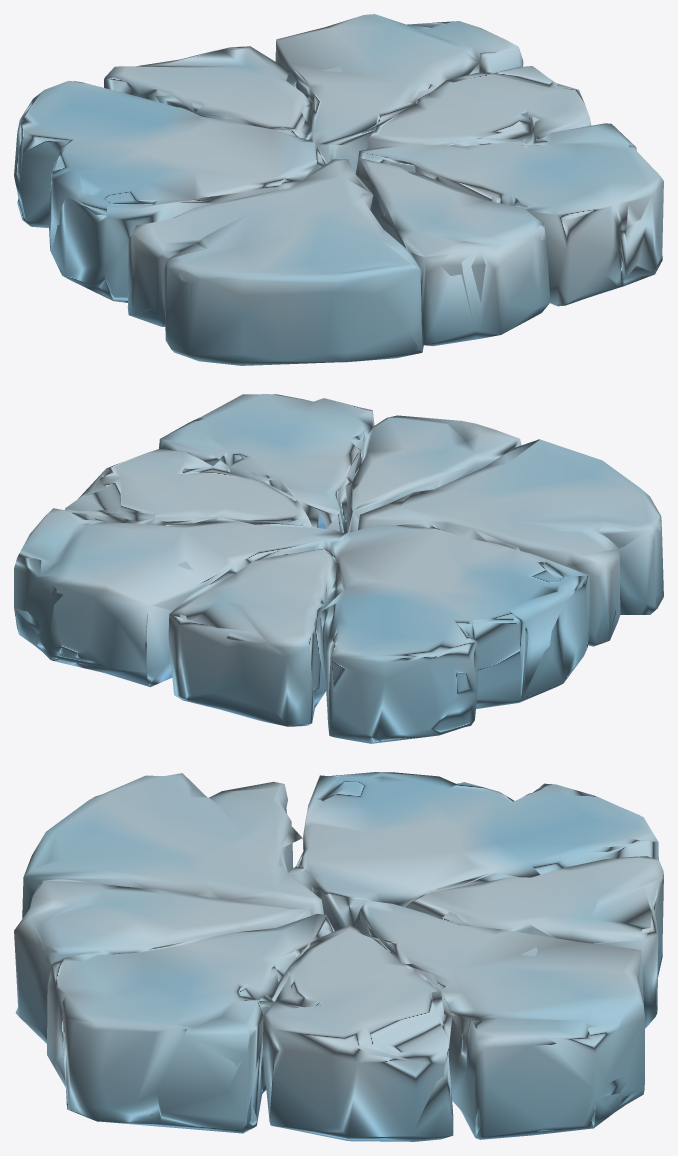
The model's file is gen3d-ice-floe-lod0.glb.
The picture shows the model from 3 angles, top to bottom: view 1: azimuth 30°, elevation 25°; view 2: azimuth 150°, elevation 25°; view 3: azimuth 270°, elevation 25°; orthographic projection. The views are drawn at different scales.
Visible parts, largest first — view 1: part_0; view 2: part_0; view 3: part_0.
Part boxes in pixels (x1=…): part_0: x1=14, y1=14, x2=663, y2=365; part_0: x1=14, y1=394, x2=663, y2=743; part_0: x1=14, y1=772, x2=663, y2=1141.
Bounding box in the file's own units: 5.66 × 0.9983 × 5.64.
